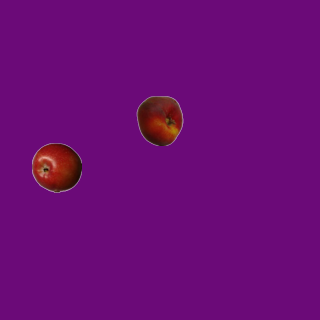Apple Braeburn: (31, 142, 81, 192)
Nectarine Flat: (134, 95, 184, 145)
